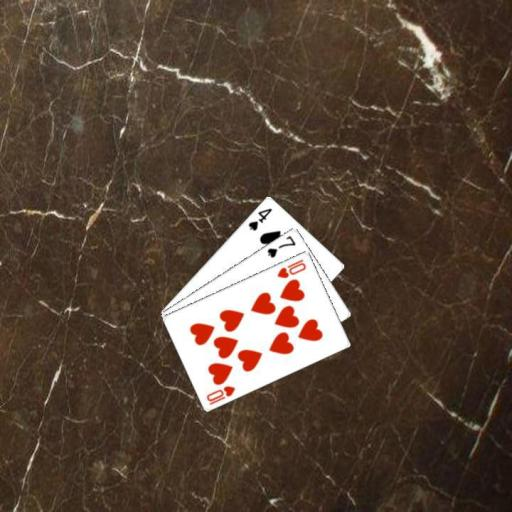10H: (203, 383, 237, 406), (274, 256, 307, 279)
4S: (245, 205, 274, 232)
7S: (264, 232, 297, 259)
